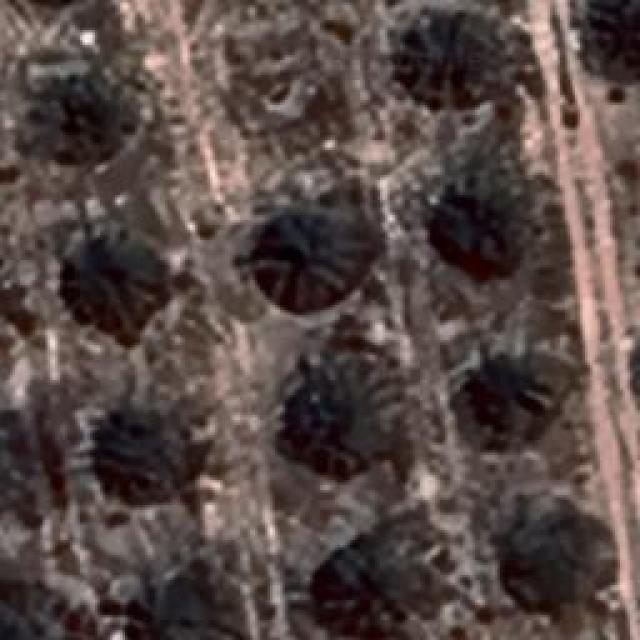PalmTree: (51, 32, 614, 472), (252, 196, 368, 299), (294, 368, 386, 486), (456, 351, 559, 439), (315, 550, 425, 632), (68, 241, 162, 334), (26, 58, 114, 150), (512, 506, 596, 602), (125, 564, 222, 640), (438, 176, 508, 264), (411, 17, 489, 95), (0, 595, 78, 640), (0, 420, 32, 516), (0, 422, 25, 520)
